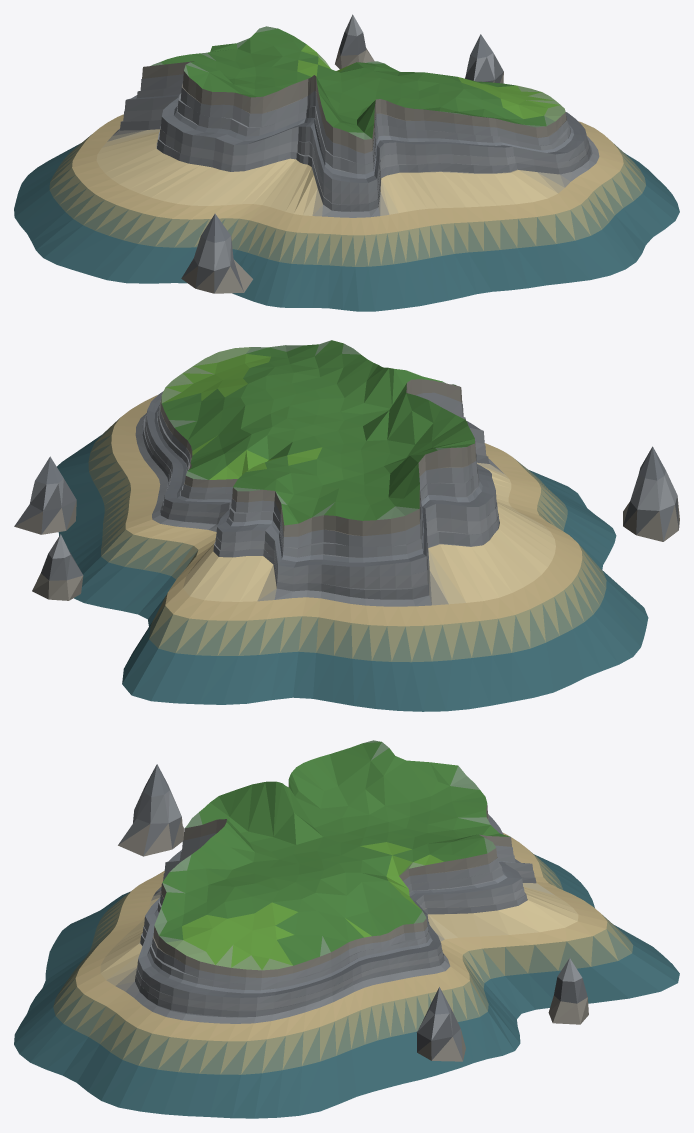
The model's file is landing.glb.
3 renders of one model, top to bottom at view 1: azimuth 30°, elevation 25°; view 2: azimuth 150°, elevation 25°; view 3: azimuth 270°, elevation 25°, orthographic. The views are drawn at different scales.
Parts seen in each view (by area): view 1: landing; view 2: landing; view 3: landing.
Part boxes in pixels (bbox=[...]): landing: bbox=[14, 14, 679, 311]; landing: bbox=[14, 340, 679, 711]; landing: bbox=[14, 740, 679, 1118].
Bounding box in the file's own units: 63.63 × 17.74 × 61.33.
